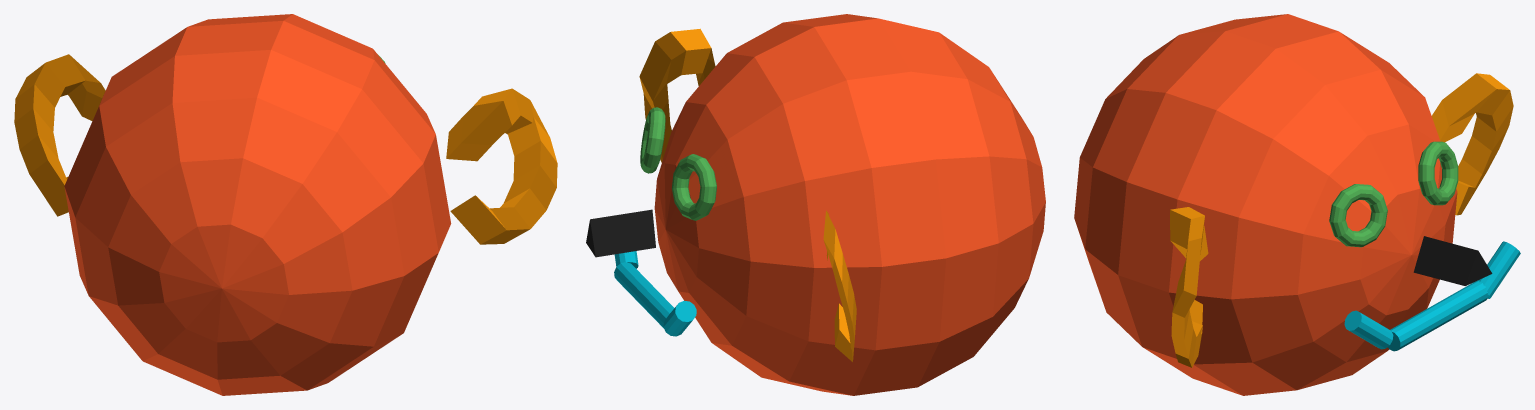
File: happydude.fbx
The picture shows the model from 3 angles, left to right: view 1: azimuth 30°, elevation 25°; view 2: azimuth 150°, elevation 25°; view 3: azimuth 270°, elevation 25°; orthographic projection.
Parts seen in each view (by area): view 1: mesh_426327317, group_2141261232, group_510933855; view 2: mesh_426327317, group_2141261232, group_2063046802, group_510933855, mesh_1347179664, mesh_1290791996, mesh_587875995, mesh_429342887; view 3: mesh_426327317, group_510933855, group_2141261232, group_2063046802, mesh_1290791996, mesh_587875995, mesh_1347179664, mesh_1342858908, mesh_429342887.
Part boxes in pixels (left/top/right/bottom): mesh_426327317: left=64, top=14, right=451, bottom=395; group_2141261232: left=446, top=88, right=557, bottom=244; group_510933855: left=14, top=54, right=105, bottom=216; mesh_426327317: left=654, top=14, right=1045, bottom=395; group_2141261232: left=639, top=28, right=715, bottom=162; group_2063046802: left=586, top=209, right=655, bottom=257; group_510933855: left=823, top=210, right=856, bottom=361; mesh_1347179664: left=671, top=154, right=716, bottom=220; mesh_1290791996: left=614, top=262, right=674, bottom=328; mesh_587875995: left=640, top=107, right=665, bottom=173; mesh_429342887: left=663, top=300, right=696, bottom=336; mesh_426327317: left=1074, top=14, right=1457, bottom=395; group_510933855: left=1431, top=73, right=1513, bottom=215; group_2141261232: left=1170, top=207, right=1208, bottom=367; group_2063046802: left=1413, top=236, right=1492, bottom=285; mesh_1290791996: left=1387, top=281, right=1488, bottom=351; mesh_587875995: left=1329, top=184, right=1387, bottom=247; mesh_1347179664: left=1418, top=141, right=1458, bottom=205; mesh_1342858908: left=1344, top=310, right=1393, bottom=349; mesh_429342887: left=1476, top=241, right=1520, bottom=298.
Bounding box in the file's own units: 43.47 × 34.36 × 40.65.
